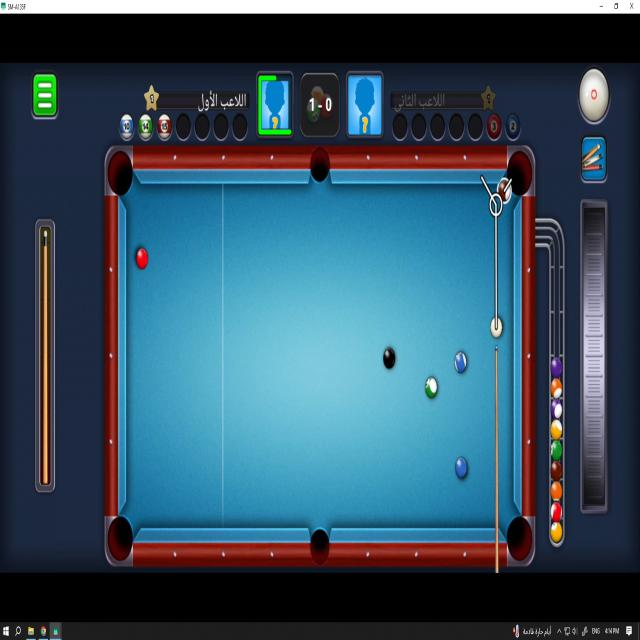object_ball: (498, 178, 512, 203), (384, 347, 396, 369), (454, 352, 466, 373), (425, 377, 437, 398), (136, 249, 148, 269), (456, 457, 467, 478)
white_cue_ball: (490, 316, 502, 338)
